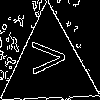V: (24, 40, 65, 75)
